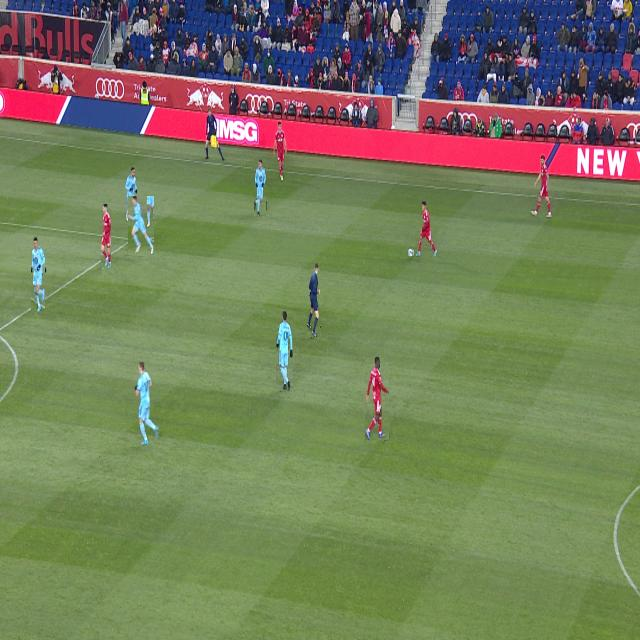football: (409, 248, 413, 257)
player: (135, 362, 159, 445), (365, 357, 389, 440), (128, 196, 154, 255), (276, 311, 293, 391), (531, 155, 551, 218), (416, 201, 437, 257), (32, 237, 45, 312), (273, 121, 287, 181), (125, 167, 137, 228), (101, 205, 111, 268), (255, 159, 266, 216)
referee: (308, 263, 320, 337)
